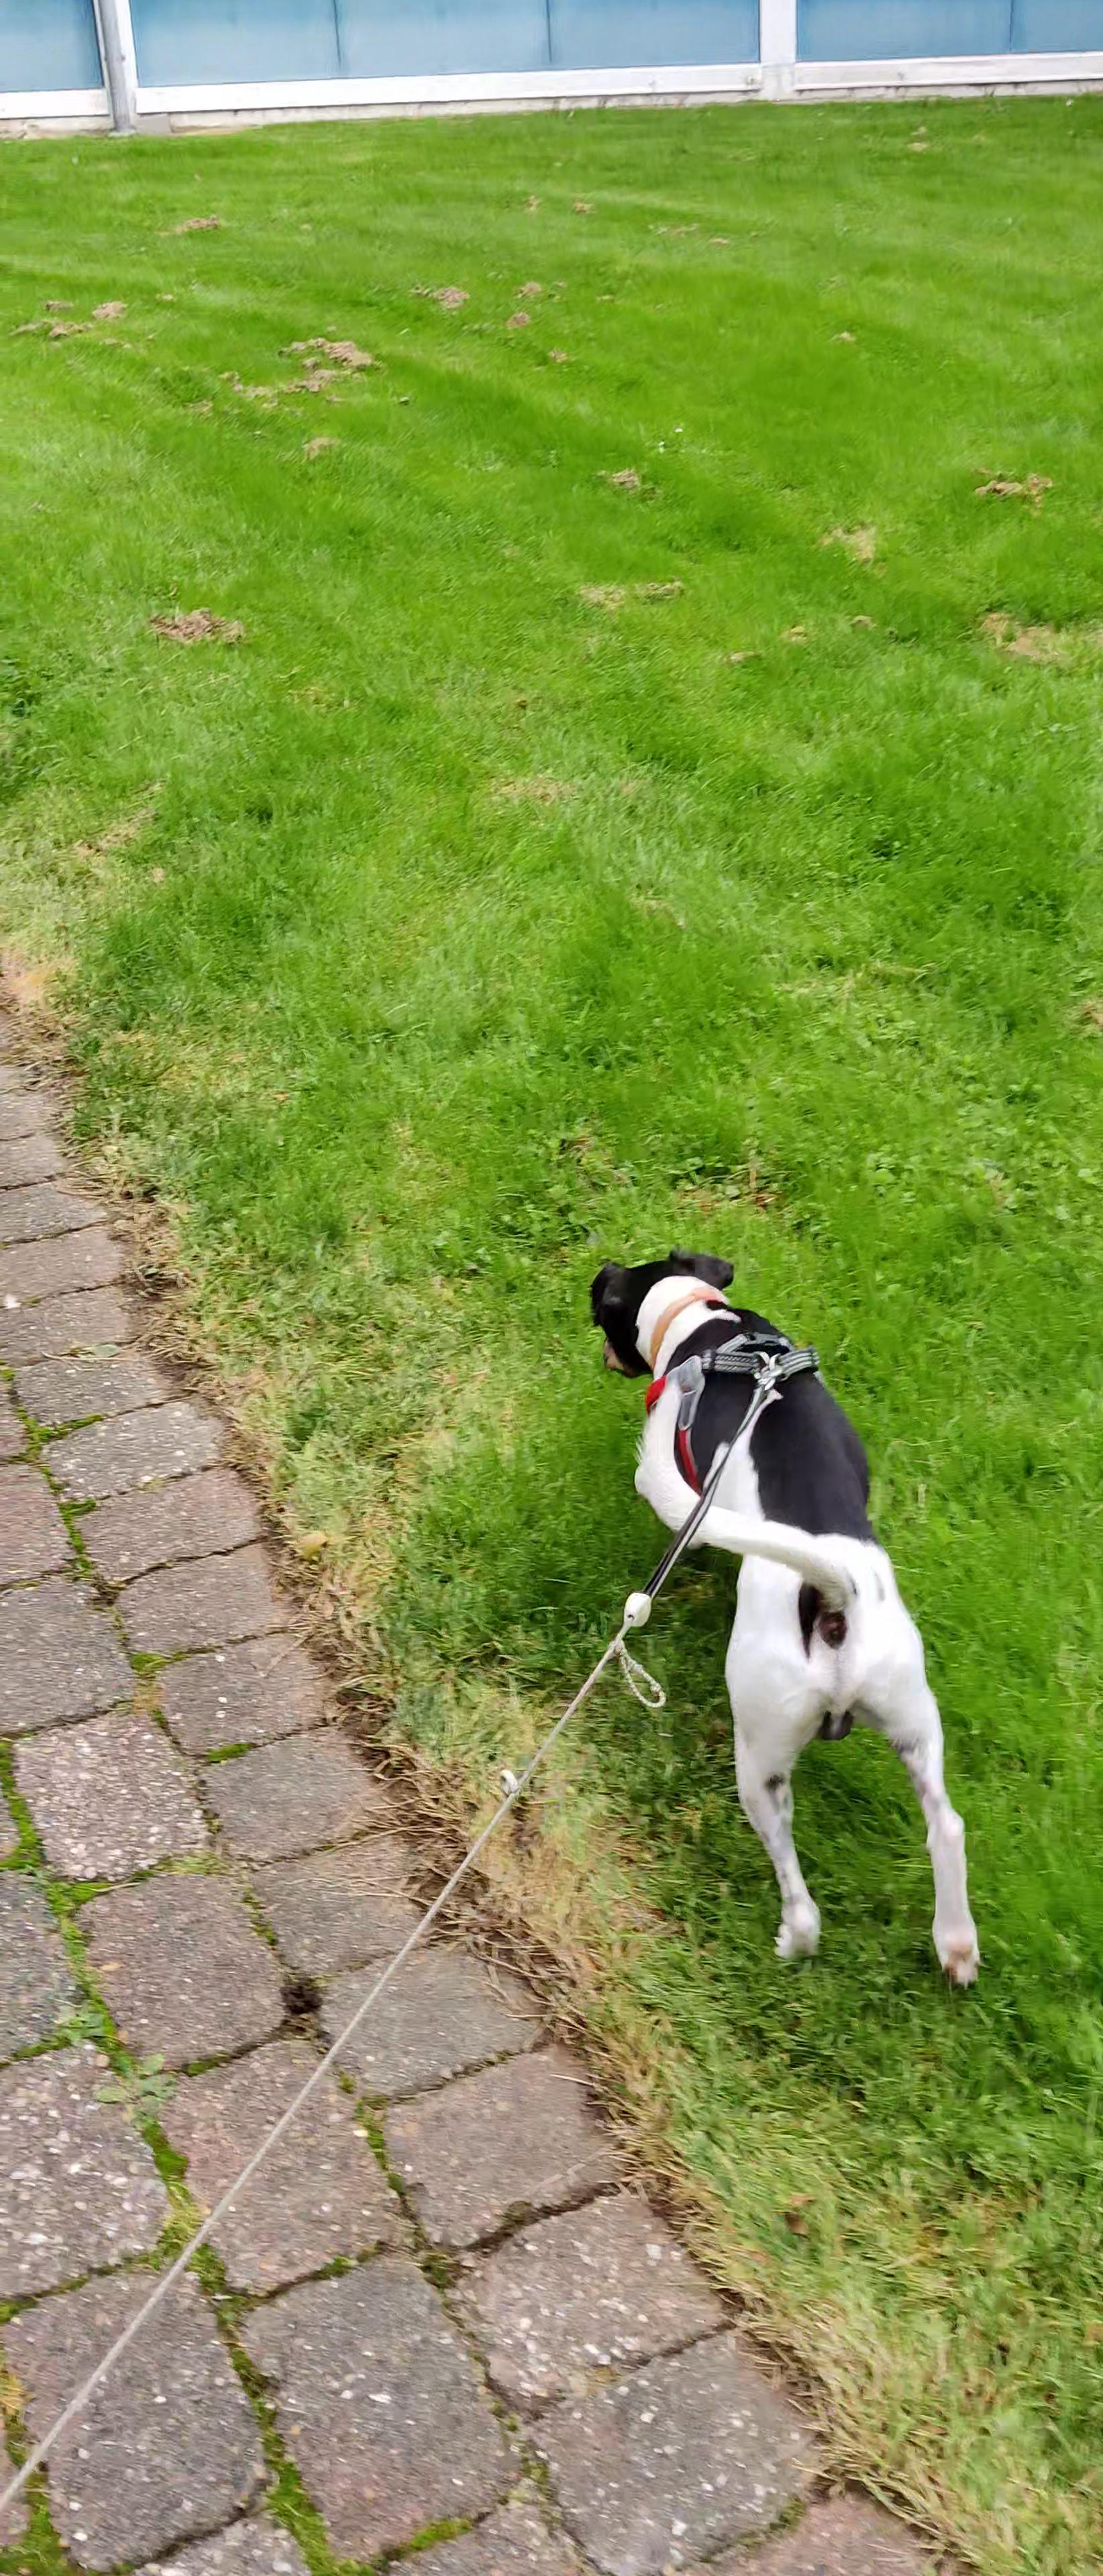Dog: (547, 1222, 1019, 2014)
